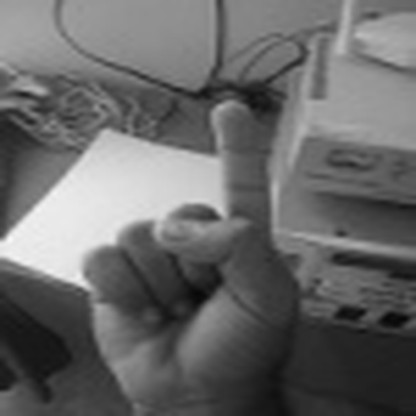d: (81, 92, 304, 410)
